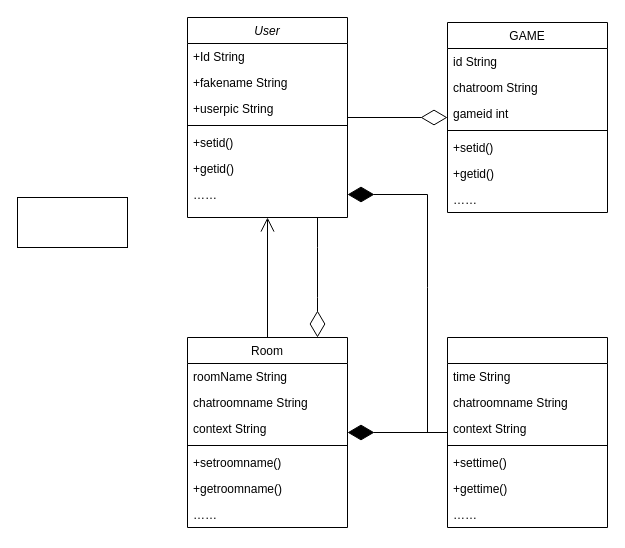
Image size: 625x548. Some labels were removed from this diagram. Here are the shapes that lost their labels. From the top down, the box of each, then its label:
(16, 196, 128, 248): model
(446, 336, 608, 528): Talk
